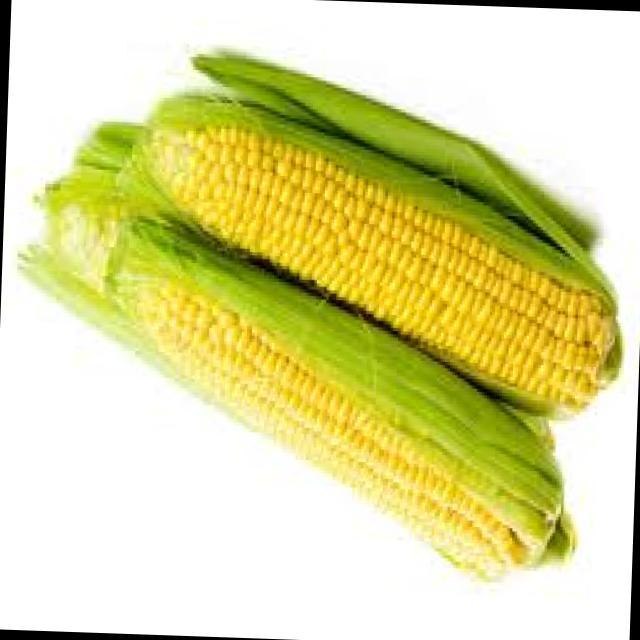Corn: (0, 47, 640, 609)
